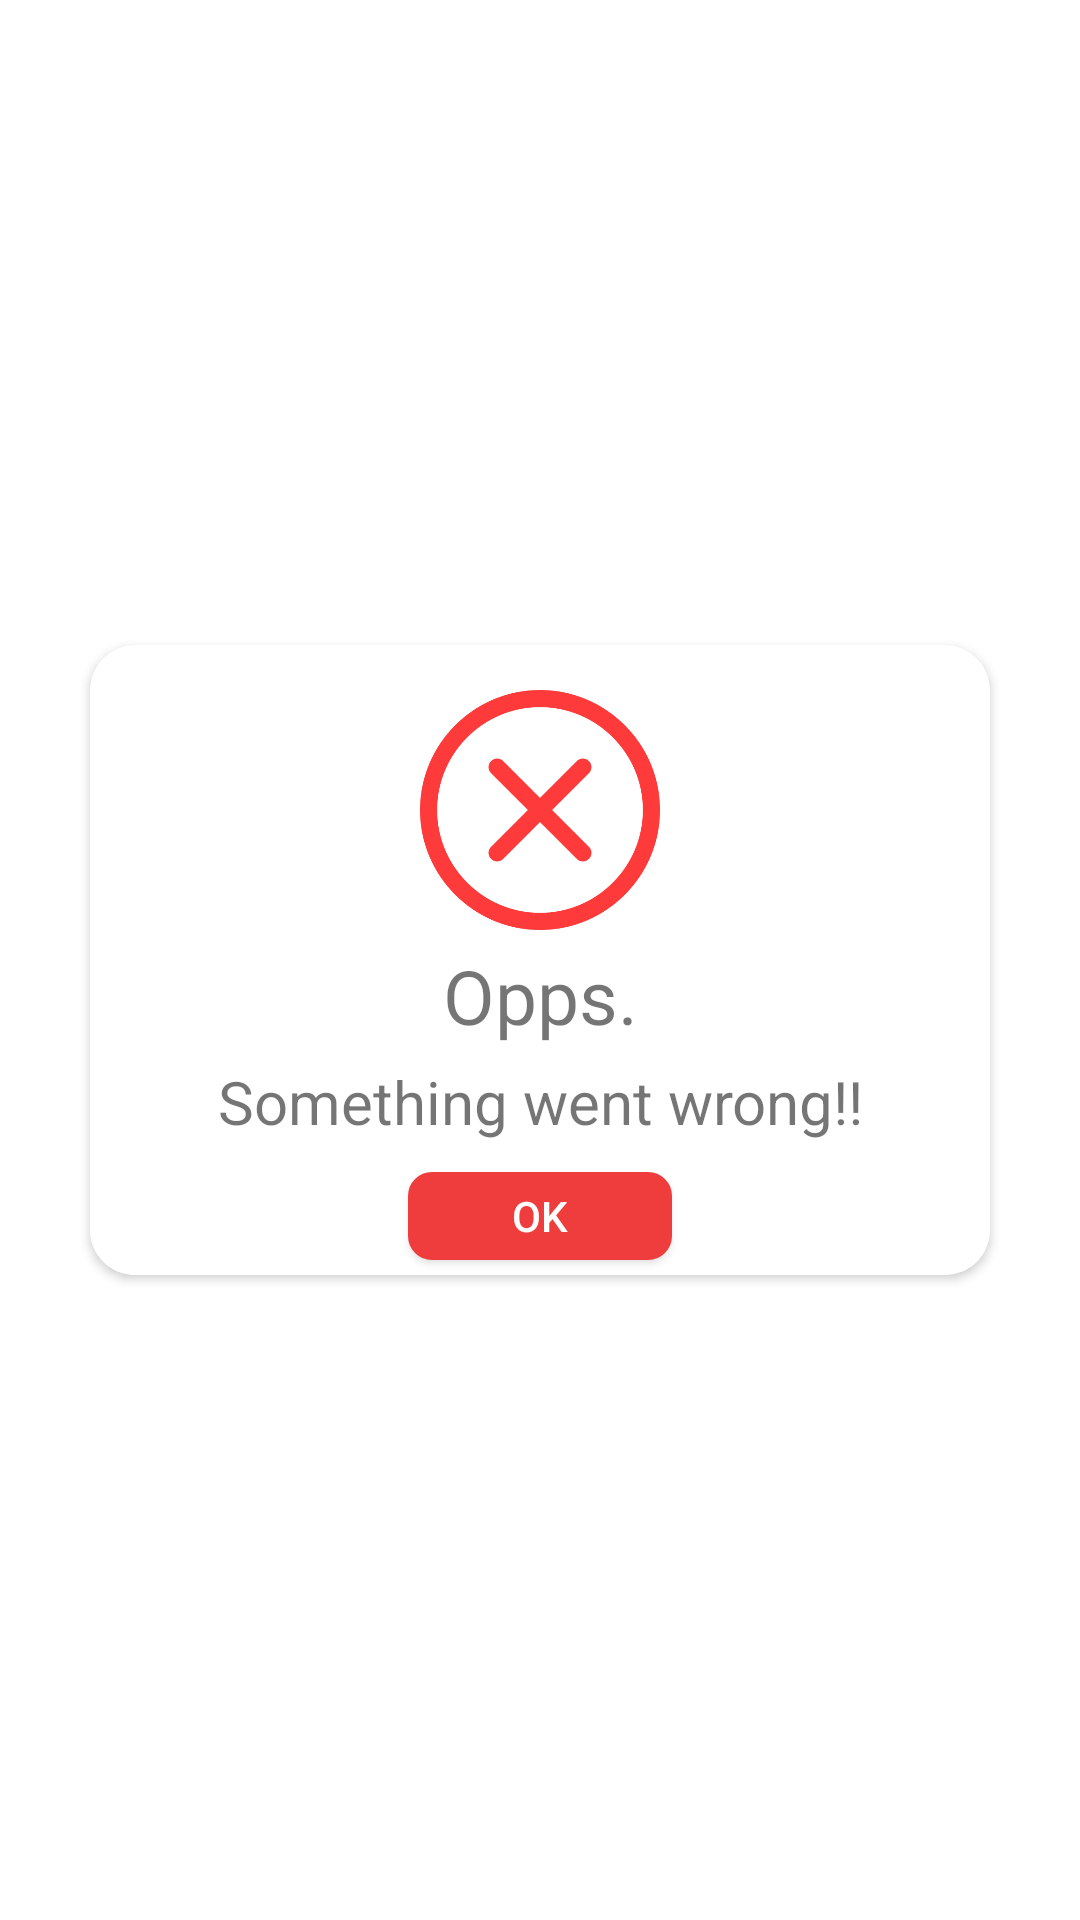

Screen size 1080x1920. Icon name, then its box in pixels as box=[x1, y1, x2, y2]:
xmark: box=[420, 690, 660, 930]
